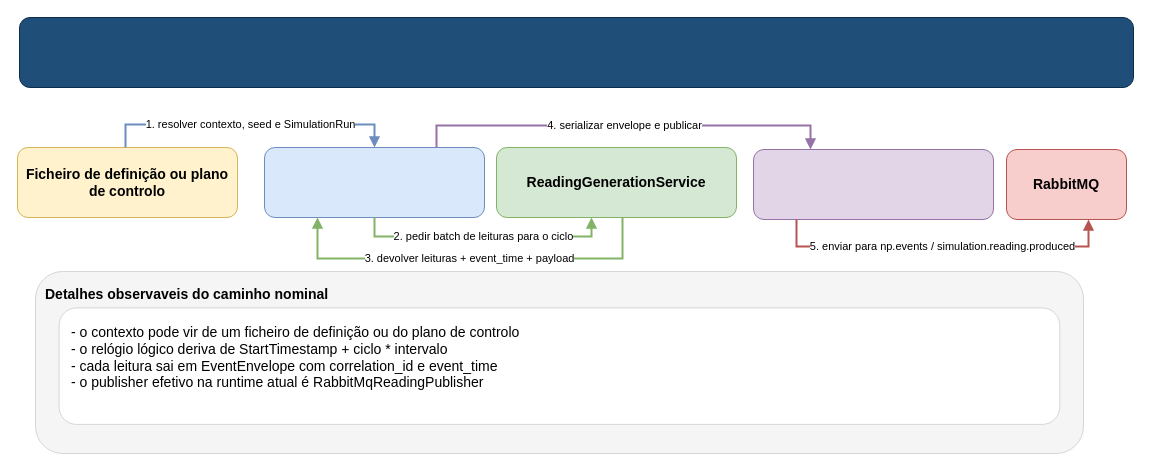
The diagram is 1151 pixels wide and 471 high, and some of its shapes have lost their labels. Here are the shapes that lost their labels. From the top down, the centre of each, then its label:
point (576, 52): Sequencia nominal da simulação
point (374, 182): SimulationRunner
point (873, 184): RabbitMqReadingPublisher
